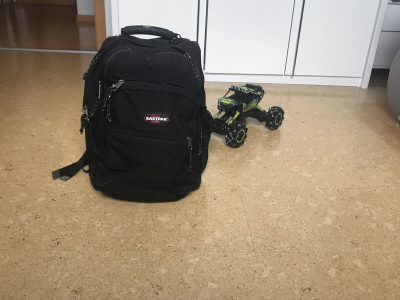remote control car: (205, 81, 288, 150)
